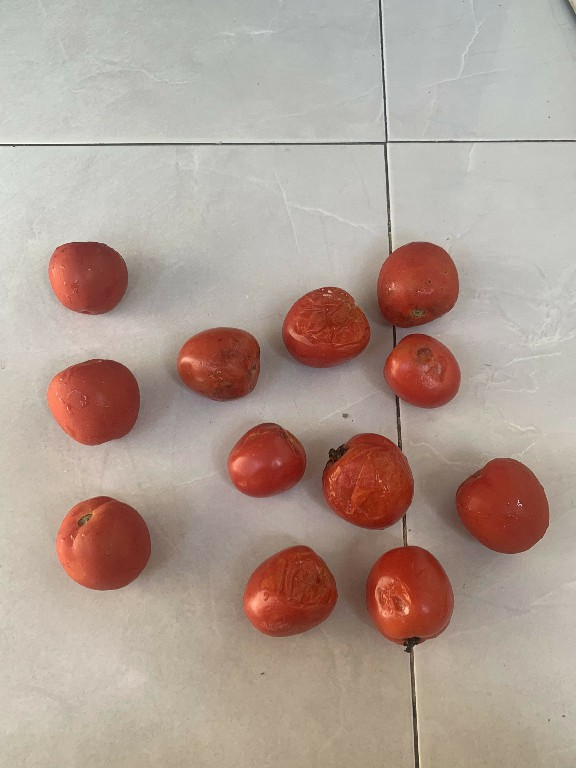NG: (355, 546, 467, 661), (314, 422, 426, 532), (238, 541, 340, 642), (282, 286, 367, 374), (169, 324, 261, 402), (226, 416, 306, 499), (381, 332, 466, 402)
OK: (48, 491, 158, 602), (449, 456, 555, 562), (43, 353, 145, 454), (371, 236, 464, 329), (43, 240, 132, 322)
